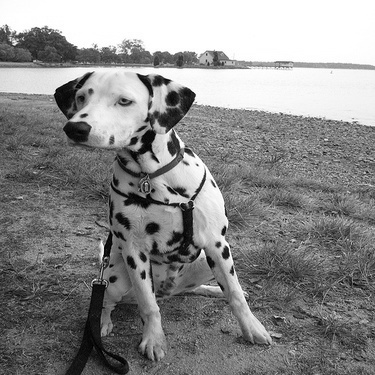dog: (35, 56, 279, 360)
